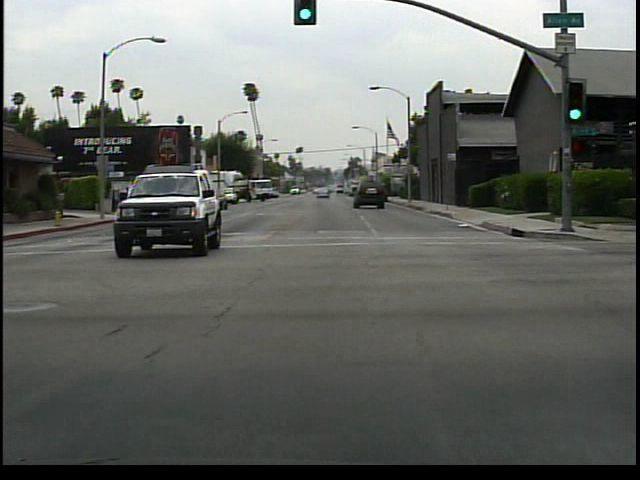person: (120, 183, 139, 216)
